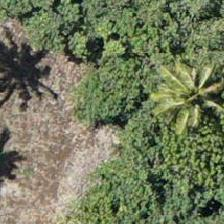coconut_tree: (150, 64, 223, 154)
